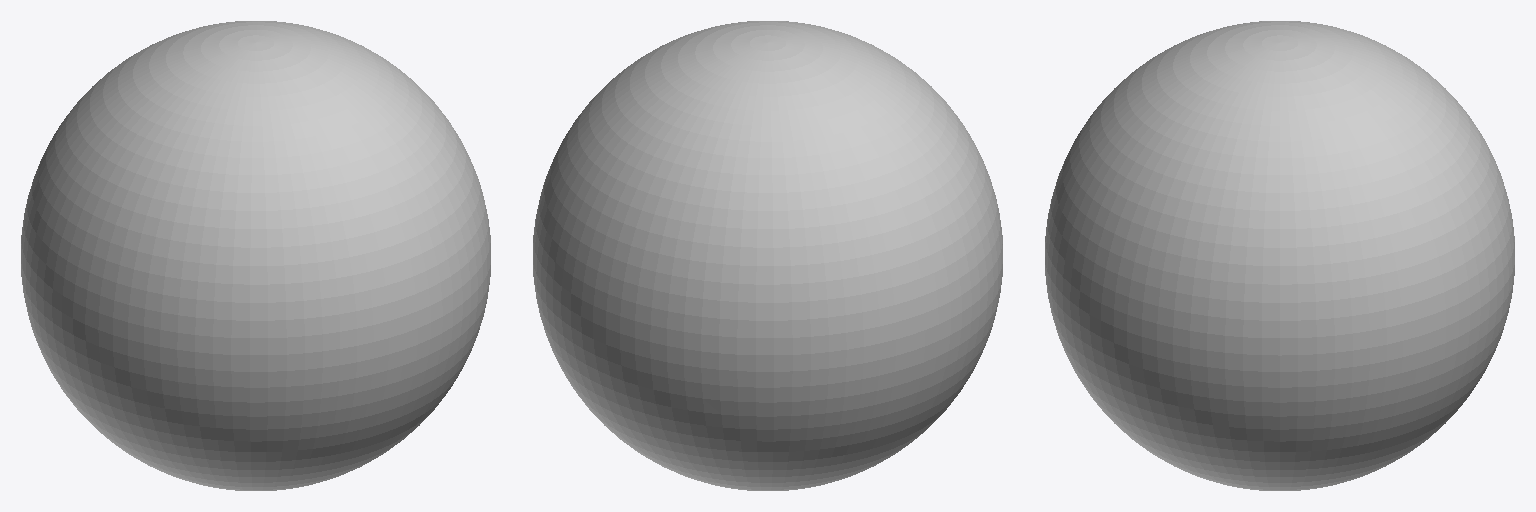
The model's file is Neptune.obj.
3 renders of one model, left to right at view 1: azimuth 30°, elevation 25°; view 2: azimuth 150°, elevation 25°; view 3: azimuth 270°, elevation 25°, orthographic.
Visible parts, largest first — view 1: Mars_Sphere; view 2: Mars_Sphere; view 3: Mars_Sphere.
Part boxes in pixels (x1,y1,x2,y2): Mars_Sphere: (21, 21, 490, 490); Mars_Sphere: (533, 21, 1002, 490); Mars_Sphere: (1045, 21, 1514, 490).
Bounding box in the file's own units: 12.71 × 12.71 × 12.71.